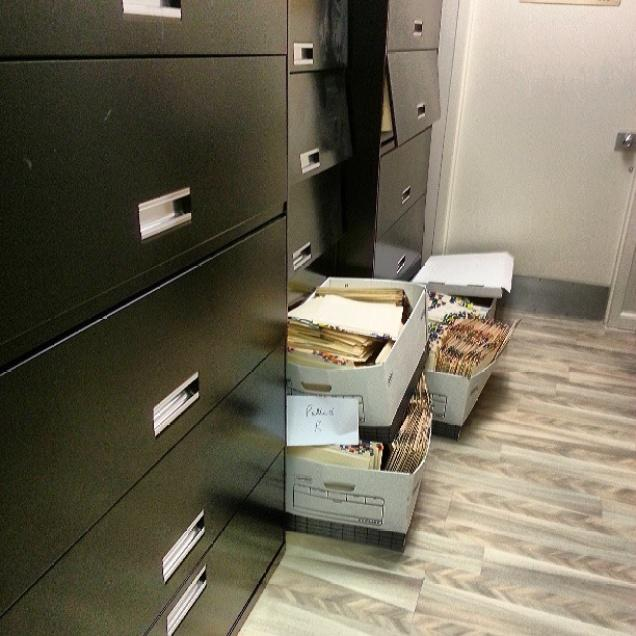Filing Cabinet: (0, 0, 288, 635), (284, 0, 353, 320), (373, 0, 443, 284)
